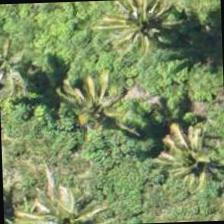Kelapa_Sawit: (45, 62, 138, 155), (140, 126, 223, 220), (82, 0, 175, 72), (0, 21, 55, 114), (13, 175, 106, 223)
